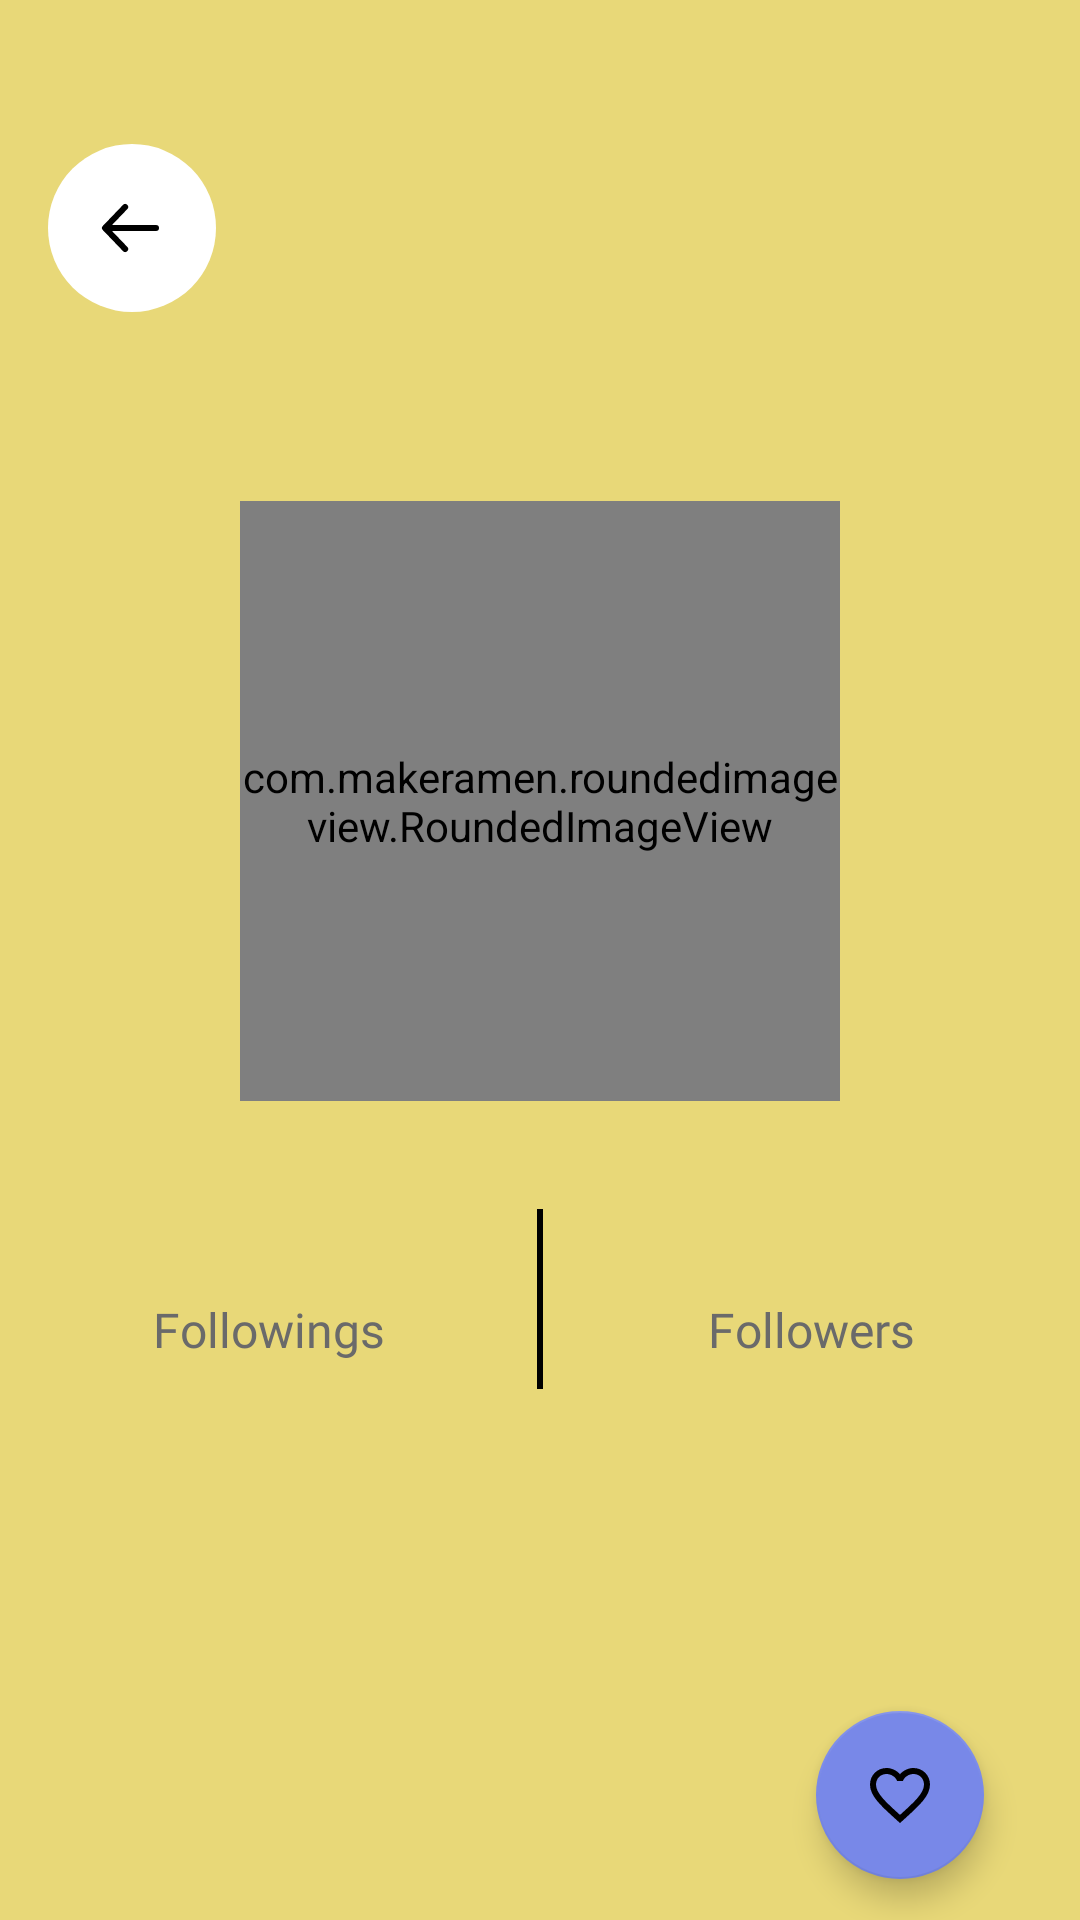

Named icons in this screenshot (1080*1920) and their centers, (x=x, y=y):
fab button to add favourite: (x=900, y=1795)
